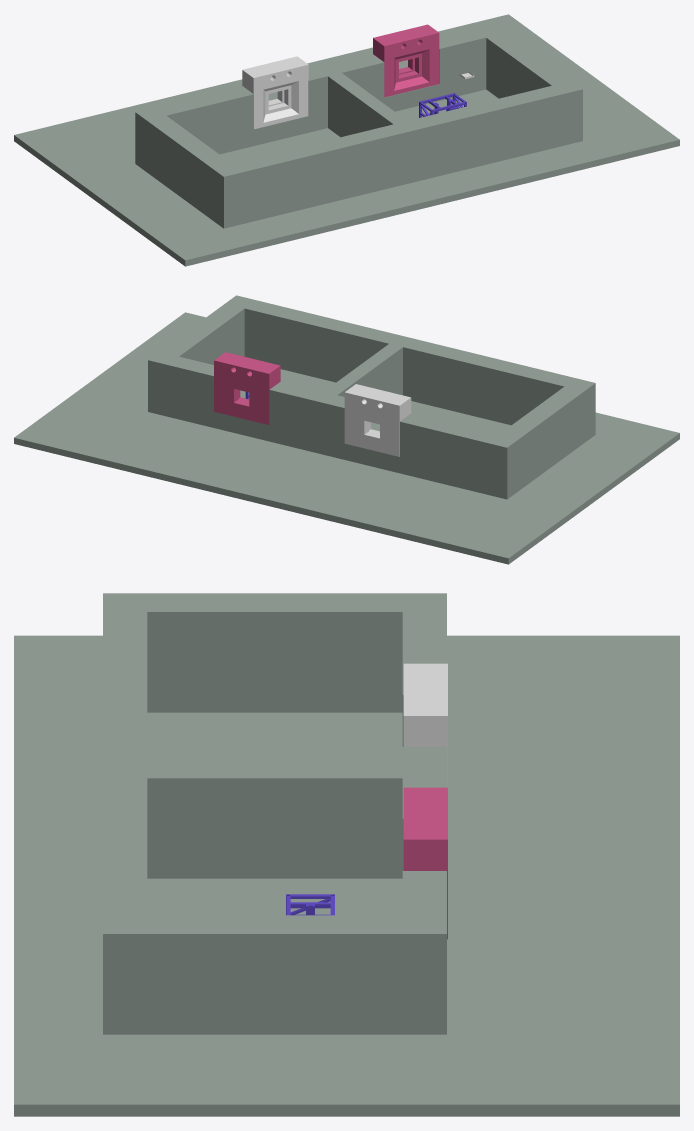
File: Hotcell.dae
3 views of the same model, one above another, from view 1: azimuth 30°, elevation 25°; view 2: azimuth 150°, elevation 25°; view 3: azimuth 270°, elevation 25° (orthographic). The views are drawn at different scales.
Visible parts, largest first — view 1: HotCell_an, HotCell_a0, HotCell_a2, Plug_holdi; view 2: HotCell_an, HotCell_a2, HotCell_a0; view 3: HotCell_an, HotCell_a0, HotCell_a2, Plug_holdi.
Part boxes in pixels (box(x1,y1,x2,y2)): HotCell_an: box(14, 14, 679, 266); HotCell_a0: box(373, 24, 439, 97); HotCell_a2: box(242, 56, 308, 129); Plug_holdi: box(419, 93, 466, 117); HotCell_an: box(14, 295, 679, 564); HotCell_a2: box(344, 384, 411, 456); HotCell_a0: box(214, 352, 280, 424); HotCell_an: box(14, 593, 679, 1116); HotCell_a0: box(403, 787, 447, 939); HotCell_a2: box(403, 663, 447, 787); Plug_holdi: box(286, 894, 334, 915).
Bounding box in the file's own units: 2.5 × 1.5 × 0.4275.
